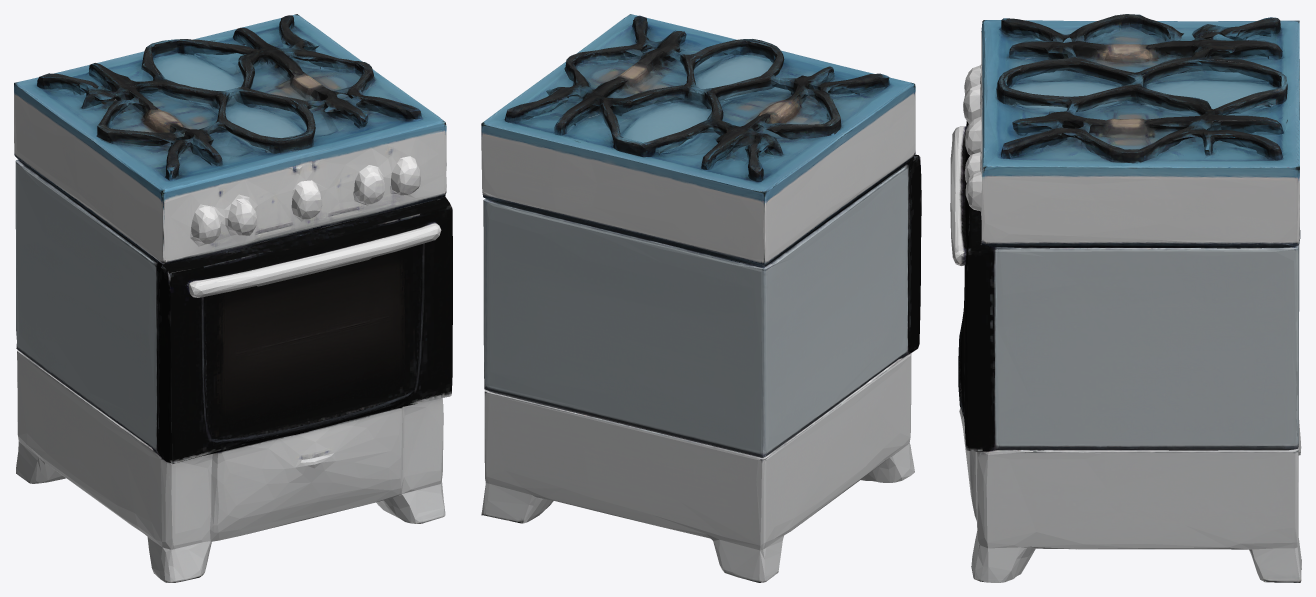
The model's file is 2269_gas_stove_euroline_4_burner.glb.
3 views of the same model, side by side, from view 1: azimuth 30°, elevation 25°; view 2: azimuth 150°, elevation 25°; view 3: azimuth 270°, elevation 25° (orthographic). The views are drawn at different scales.
Visible parts, largest first — view 1: world; view 2: world; view 3: world.
Part boxes in pixels (bbox=[...]): world: bbox=[14, 14, 452, 582]; world: bbox=[481, 14, 921, 582]; world: bbox=[950, 14, 1301, 582].
Size of the model in its own units: 0.3612 by 0.4916 by 0.3625.
1 material, 1 textured.
